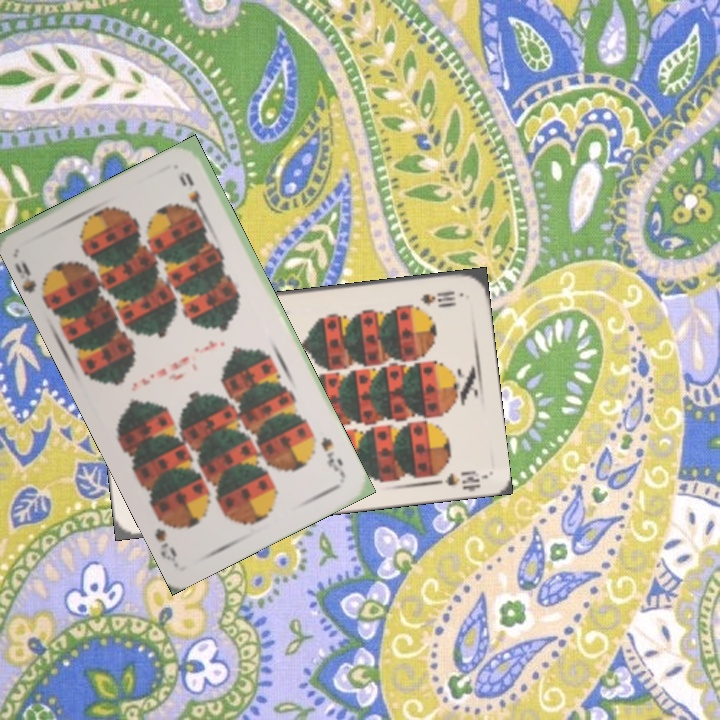S10: (416, 287, 459, 308)
S9: (12, 257, 57, 305), (317, 433, 348, 480)
